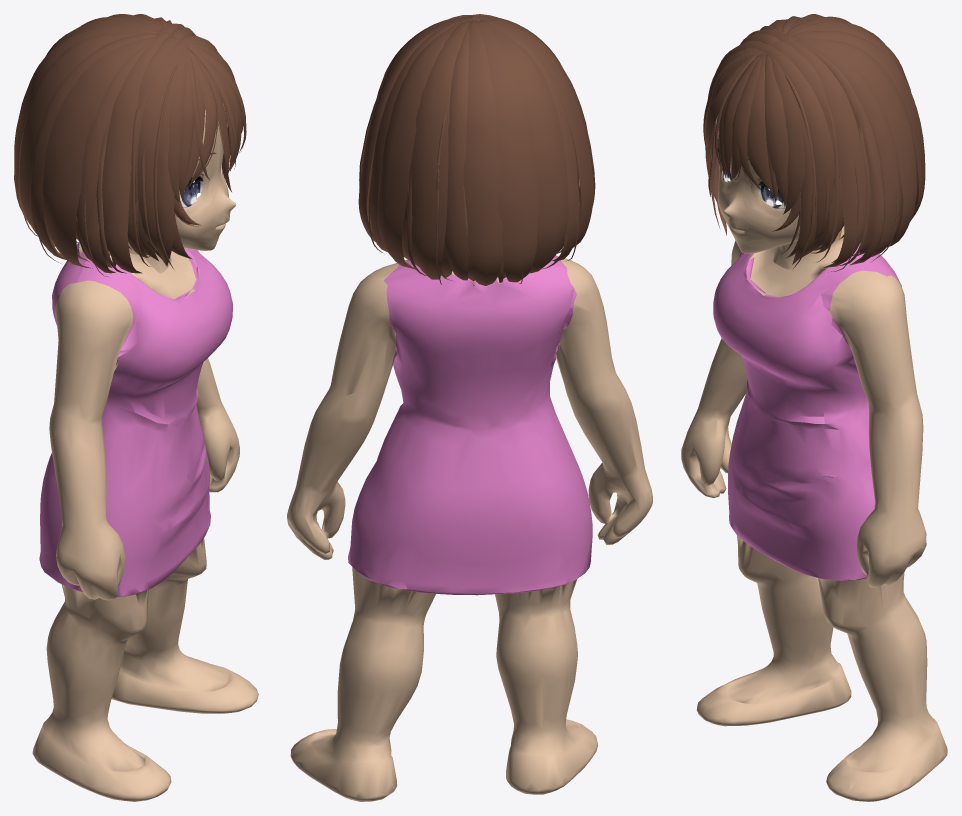
File: home.glb
The picture shows the model from 3 angles, left to right: view 1: azimuth 30°, elevation 25°; view 2: azimuth 150°, elevation 25°; view 3: azimuth 270°, elevation 25°; orthographic projection. The views are drawn at different scales.
Visible parts, largest first — view 1: part_8.006; view 2: part_8.006; view 3: part_8.006.
Part boxes in pixels (x1,y1,x2,y2): part_8.006: (14, 14, 258, 801); part_8.006: (287, 14, 652, 801); part_8.006: (681, 14, 947, 801).
Bounding box in the file's own units: 2.04 × 5.19 × 1.77.
Materials: 12 (7 with a texture image).
